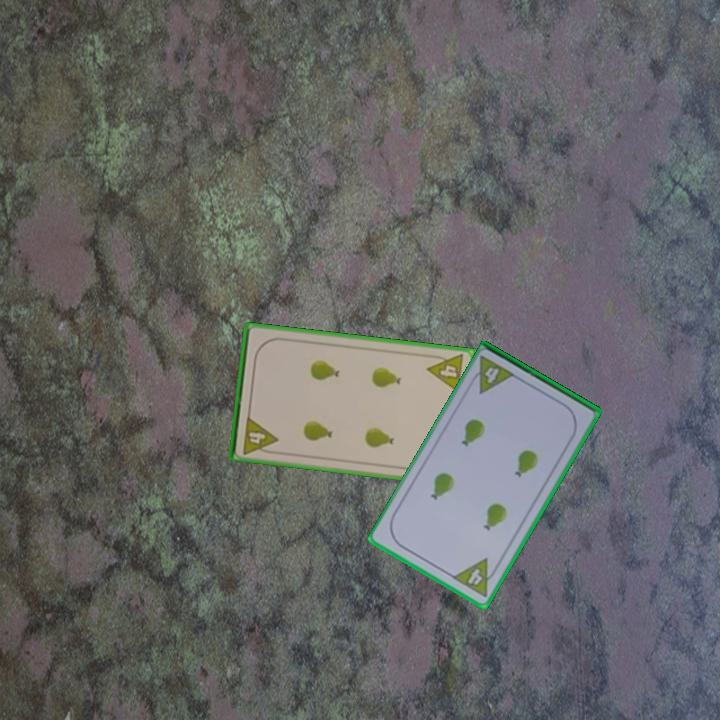4p: (449, 555, 502, 600), (465, 353, 518, 396), (424, 351, 467, 395), (239, 412, 280, 457)
